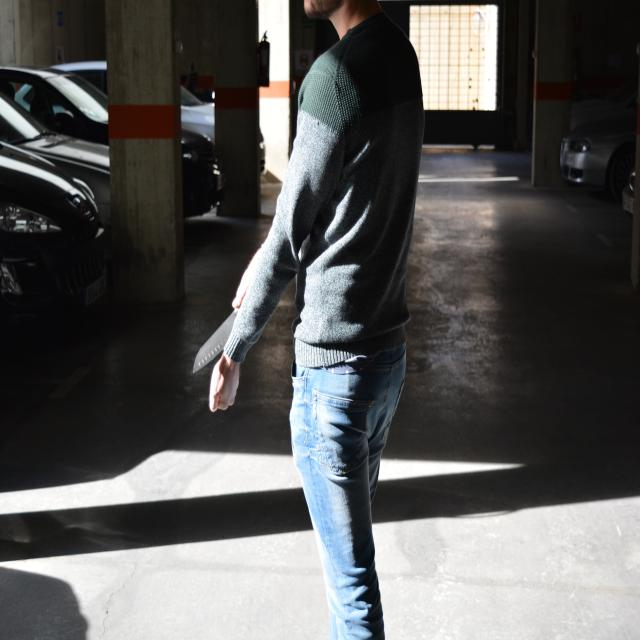knife: (191, 309, 240, 374)
